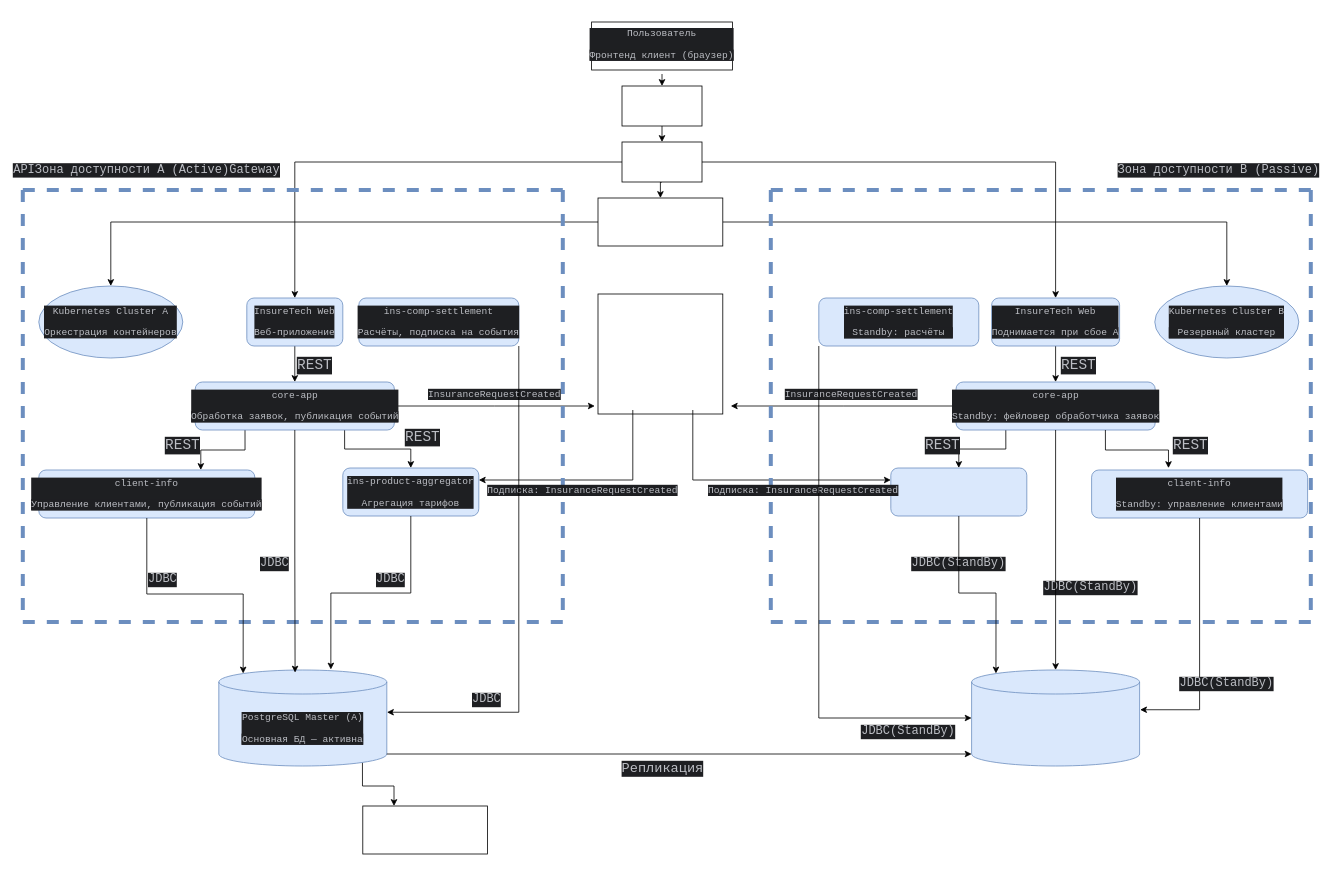
The diagram is 1334 pixels wide and 870 high, and some of its shapes have lost their labels. The shapes that lost their labels are listed below. From the top down, each one's centre as x and y in pixels, then its label:
At (661,105): "CDN".
At (661,161): "API Gateway".
At (660,221): "Мониторин Prometheus / Grafana".
At (660,353): "Kafka Центральный брокер сообщений".
At (958,491): "ins-product-aggregator Standby: тарифы".
At (1055,717): "PostgreSQL Replica (B) Реплика в пассивной зоне".
At (425,829): "Хранилище бэкапов Объектное хранилище".
